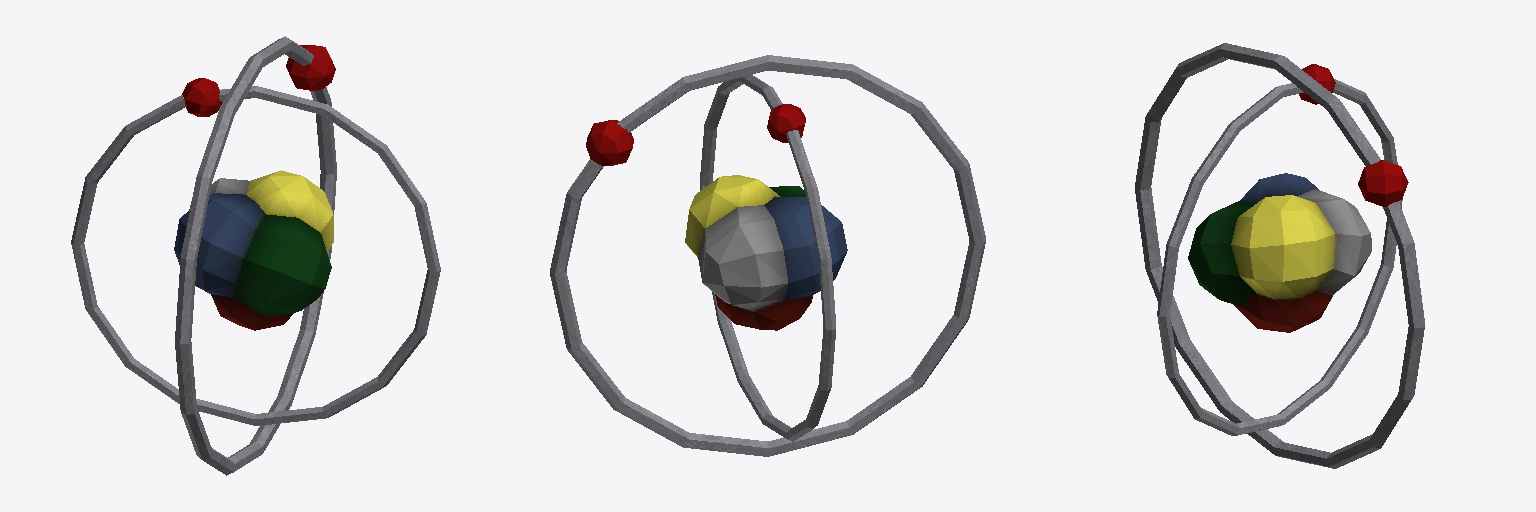
3 renders of one model, left to right at view 1: azimuth 30°, elevation 25°; view 2: azimuth 150°, elevation 25°; view 3: azimuth 270°, elevation 25°, orthographic.
Parts seen in each view (by area): view 1: unwrapped2, Object09, Object10, Object12, Object11; view 2: Object09, unwrapped2, Object10, Object12, Object11; view 3: unwrapped2, Object09, Object10, Object12, Object11.
Part boxes in pixels (left/top/right/bottom): unwrapped2: left=174, top=170, right=333, bottom=330; Object09: left=175, top=36, right=336, bottom=475; Object10: left=71, top=86, right=440, bottom=425; Object12: left=286, top=45, right=335, bottom=90; Object11: left=182, top=78, right=222, bottom=116; Object09: left=550, top=55, right=985, bottom=456; unwrapped2: left=685, top=175, right=847, bottom=330; Object10: left=700, top=75, right=835, bottom=441; Object12: left=586, top=120, right=633, bottom=165; Object11: left=767, top=104, right=805, bottom=142; unwrapped2: left=1188, top=173, right=1371, bottom=332; Object09: left=1135, top=43, right=1424, bottom=468; Object10: left=1157, top=79, right=1402, bottom=435; Object12: left=1358, top=160, right=1408, bottom=206; Object11: left=1299, top=64, right=1335, bottom=104.
Bounding box in the file's own units: 27.27 × 35.32 × 23.15.
1 materials, 1 textured.